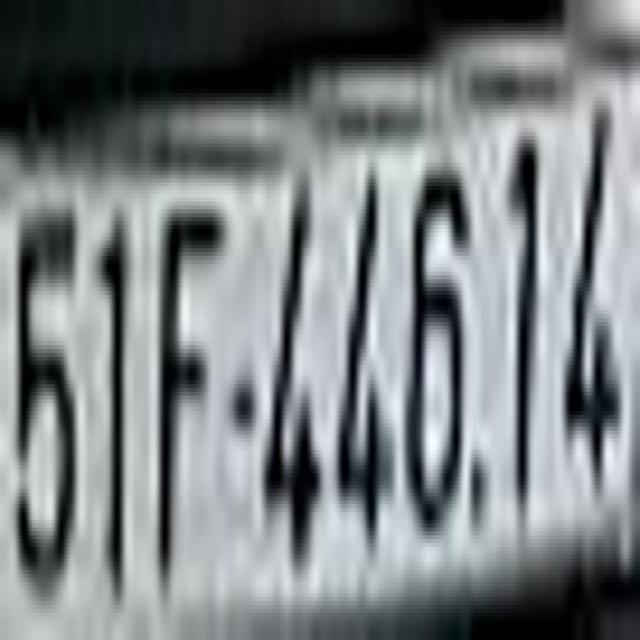1: (496, 81, 540, 516), (99, 198, 136, 593)
4: (260, 167, 322, 586), (558, 93, 619, 504), (329, 159, 389, 566)
5: (10, 182, 80, 582)
6: (401, 128, 468, 531)
F: (145, 190, 229, 586)
